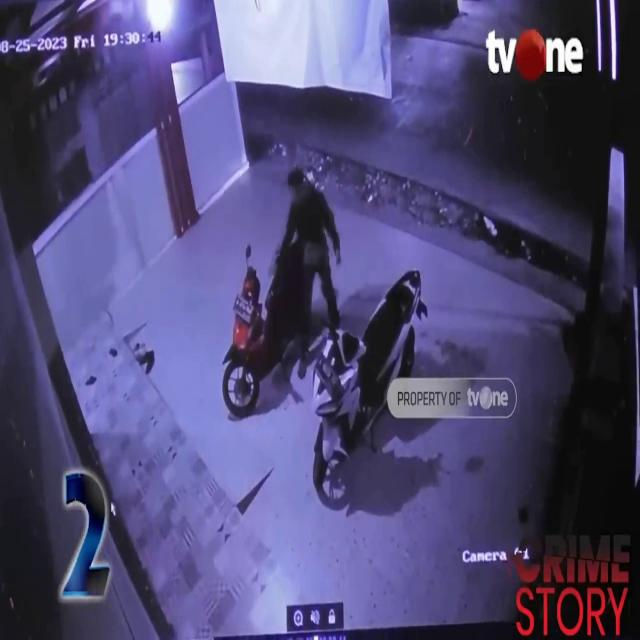pencurian: (258, 170, 333, 365)
